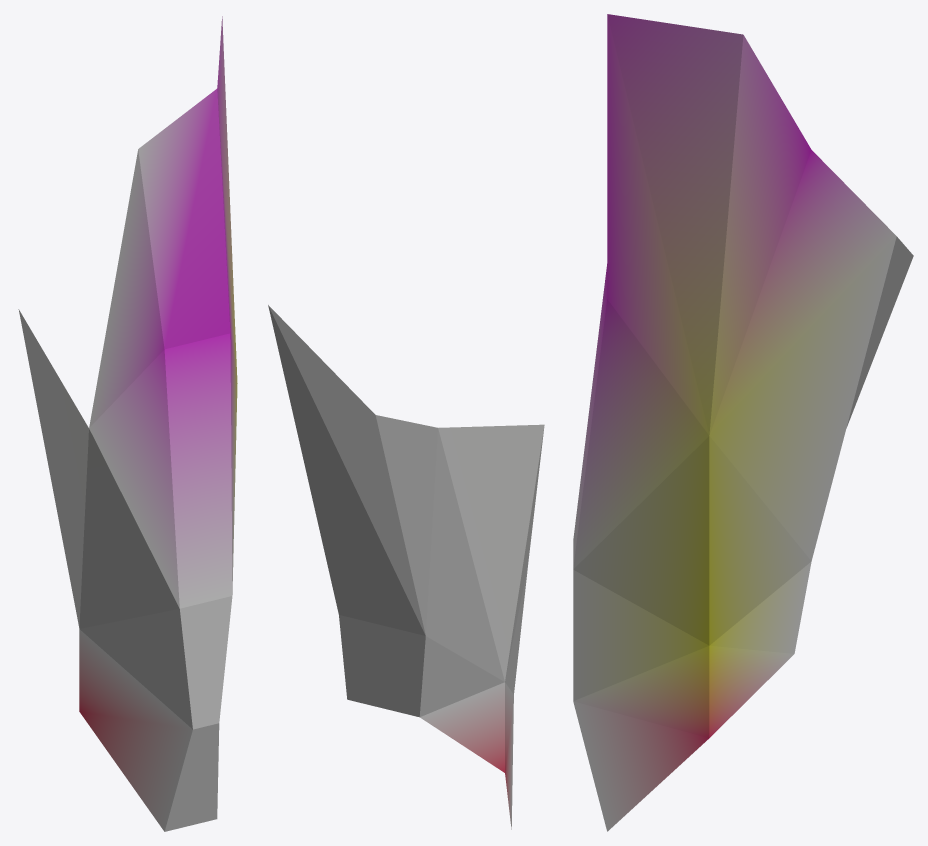
The picture shows the model from 3 angles, left to right: view 1: azimuth 30°, elevation 25°; view 2: azimuth 150°, elevation 25°; view 3: azimuth 270°, elevation 25°; orthographic projection. The views are drawn at different scales.
Visible parts, largest first — view 1: model_119F; view 2: model_119F; view 3: model_119F.
Boxes of the visible parts, x1,y1,x2,y2 form: model_119F: [18, 16, 237, 831]; model_119F: [268, 305, 544, 829]; model_119F: [573, 14, 913, 831].
Size of the model in its own units: 14 by 54 by 20.
